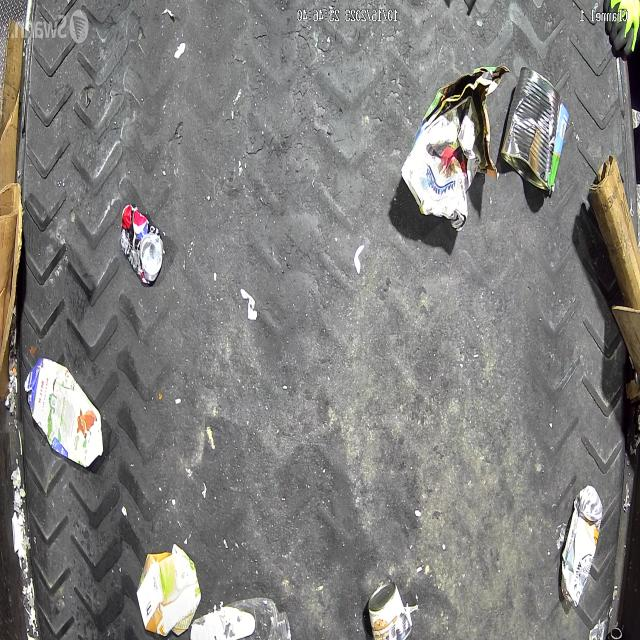can: (500, 66, 561, 191), (561, 484, 603, 608), (120, 204, 163, 286), (368, 583, 412, 640)
non_white_jug: (24, 357, 102, 467), (136, 543, 202, 637)
plastic_bottle: (190, 597, 291, 640)
